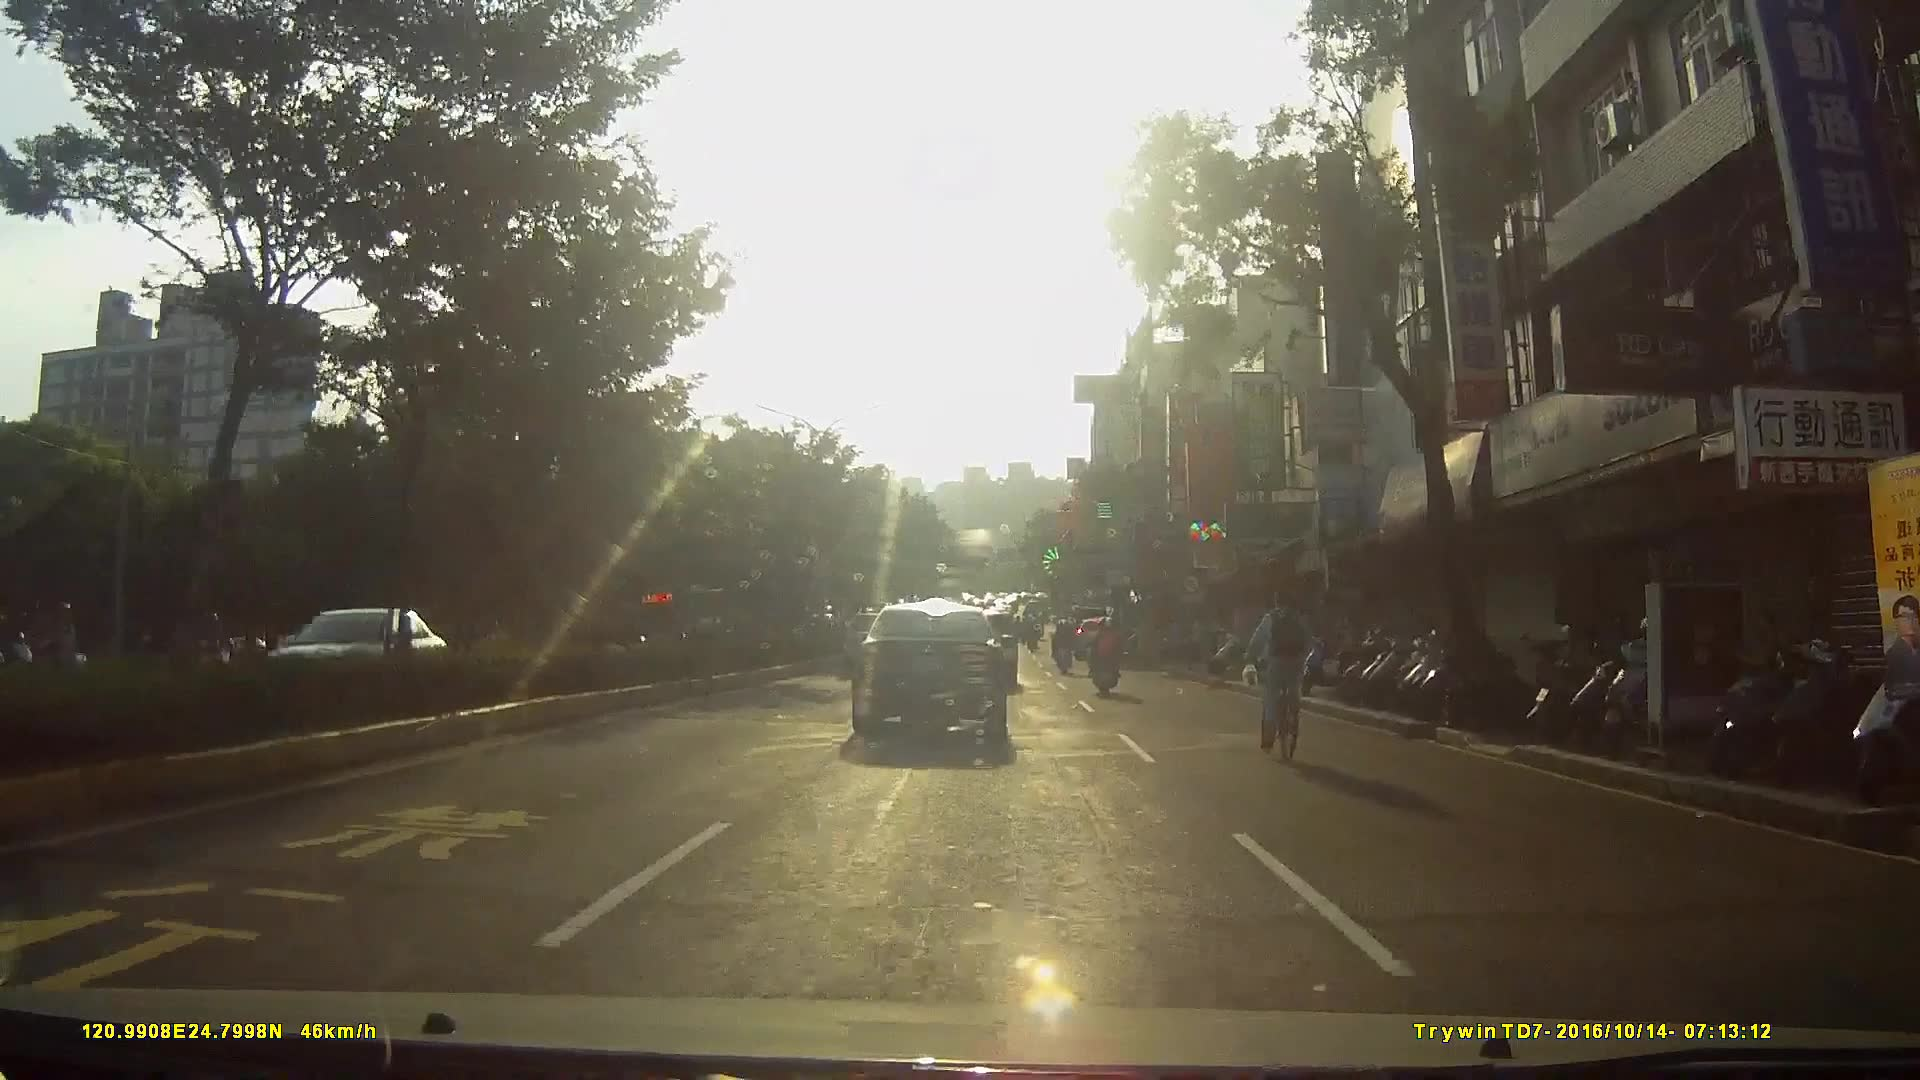rider: (1244, 588, 1320, 762), (31, 599, 98, 702), (1087, 619, 1121, 700), (1049, 619, 1076, 676)
vehicle: (853, 605, 1026, 756), (252, 602, 460, 709)
